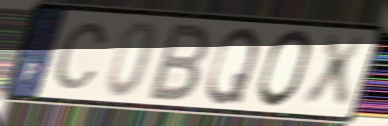0: (103, 18, 159, 101)
B: (144, 21, 214, 103)
C: (51, 19, 111, 92)
O: (254, 27, 314, 111)
Q: (203, 25, 263, 107)
X: (300, 33, 370, 112)
